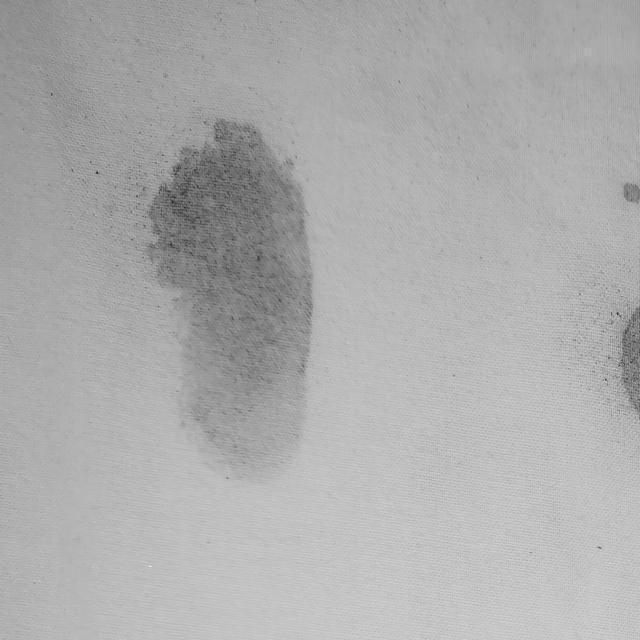Hole: (102, 92, 346, 506), (587, 168, 640, 417)
